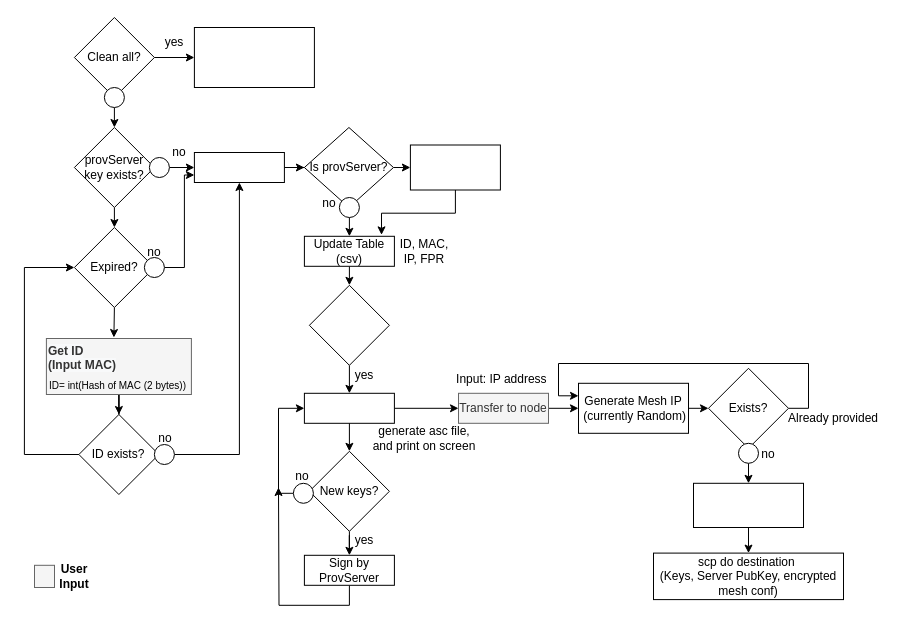
The diagram is 906 pixels wide and 631 high, and some of its shapes have lost their labels. Each missing label, with the centre of its shape:
Delete all pair of keys Delete file (dev.csv): pixel 253 57
Encrypt mesh_conf with destination Pub Key: pixel 748 505
Export Keys: pixel 348 407
Generate keys: pixel 238 167
get MAC Address of the 'wlan' interface: pixel 454 167
Is node?: pixel 348 324
